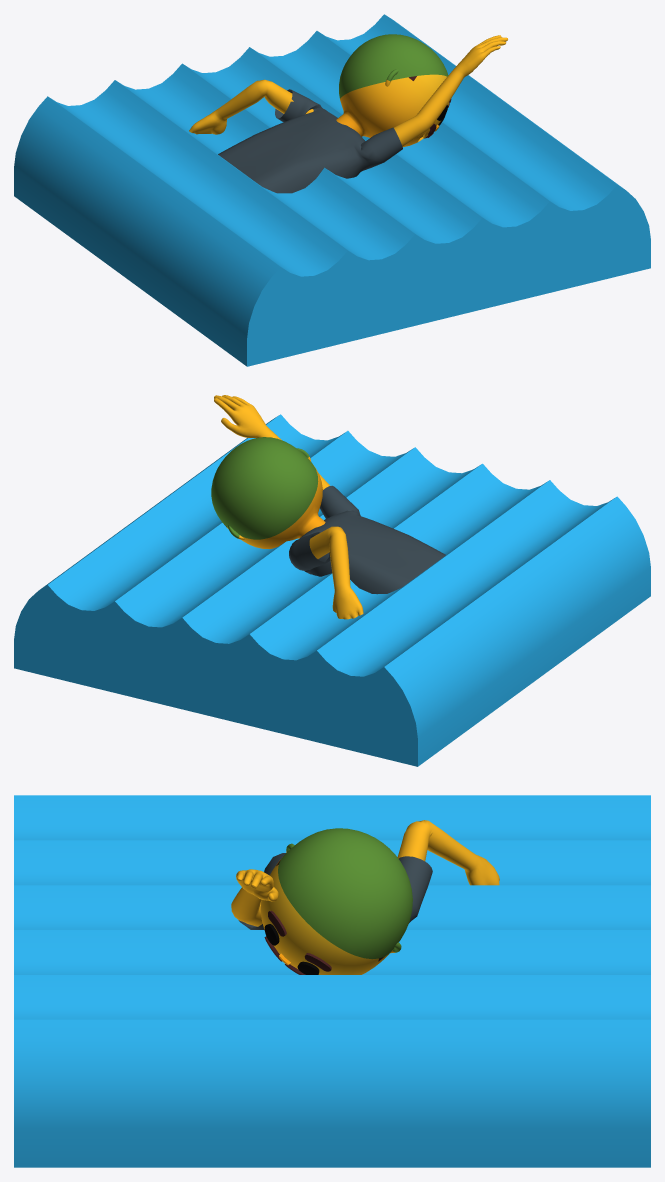
Rendered from man_swimming.fbx.
3 views of the same model, one above another, from view 1: azimuth 30°, elevation 25°; view 2: azimuth 150°, elevation 25°; view 3: azimuth 270°, elevation 25° (orthographic). The views are drawn at different scales.
Visible parts, largest first — view 1: Cube.016, Circle.137, Roundcube.464; view 2: Cube.016, Circle.137, Roundcube.464; view 3: Cube.016, Roundcube.464, Circle.137.
Boxes of the visible parts, bbox=[...] form: Cube.016: bbox=[14, 14, 650, 366]; Circle.137: bbox=[189, 35, 507, 193]; Roundcube.464: bbox=[336, 34, 448, 146]; Cube.016: bbox=[14, 414, 650, 766]; Circle.137: bbox=[214, 395, 445, 619]; Roundcube.464: bbox=[211, 437, 325, 548]; Cube.016: bbox=[14, 795, 650, 1167]; Roundcube.464: bbox=[260, 828, 412, 974]; Circle.137: bbox=[231, 820, 499, 929].
Size of the model in its own units: 200 by 85.88 by 200.
Materials: 2 (2 with a texture image).
